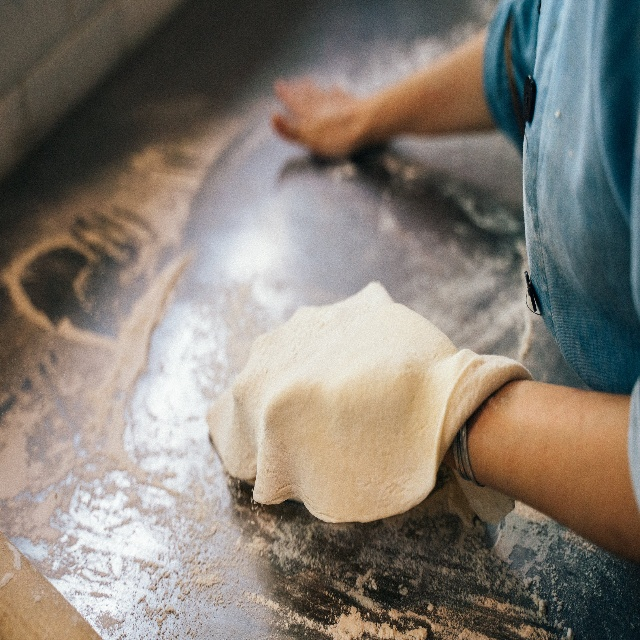Sin_guantes: (265, 67, 371, 170)
